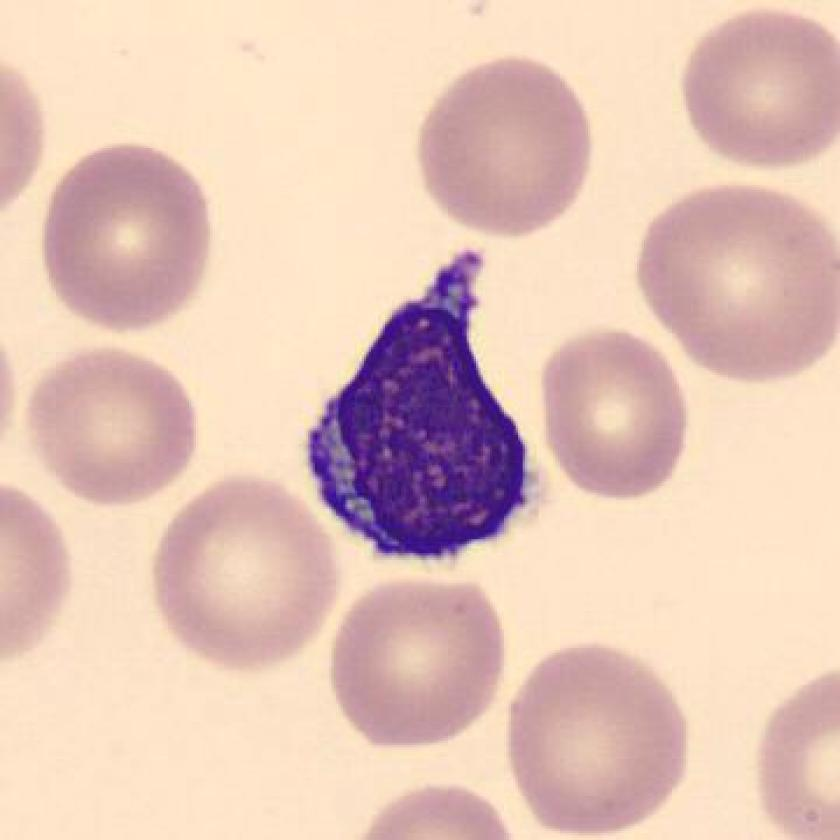lymphocyte: (281, 233, 566, 584)
